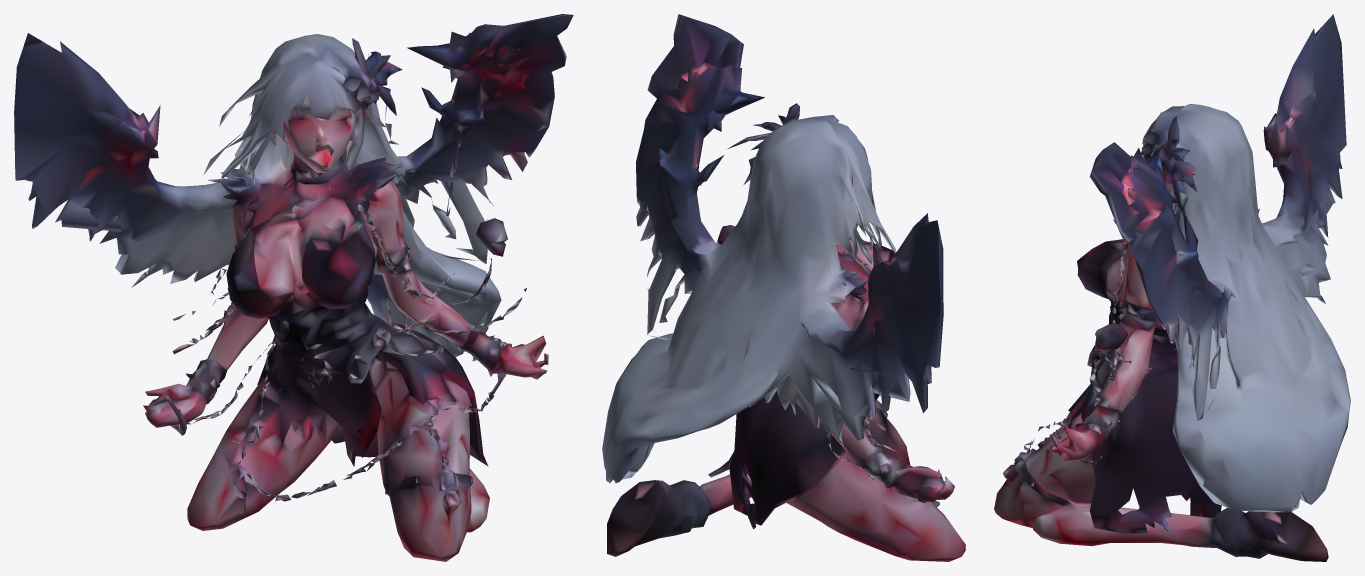
3 views of the same model, side by side, from view 1: azimuth 30°, elevation 25°; view 2: azimuth 150°, elevation 25°; view 3: azimuth 270°, elevation 25° (orthographic). The views are drawn at different scales.
Parts seen in each view (by area): view 1: model; view 2: model; view 3: model.
Boxes of the visible parts, x1,y1,x2,y2 form: model: [14, 14, 573, 561]; model: [602, 14, 965, 561]; model: [994, 14, 1350, 561].
Bounding box in the file's own units: 1.83 × 1.9 × 1.47.
